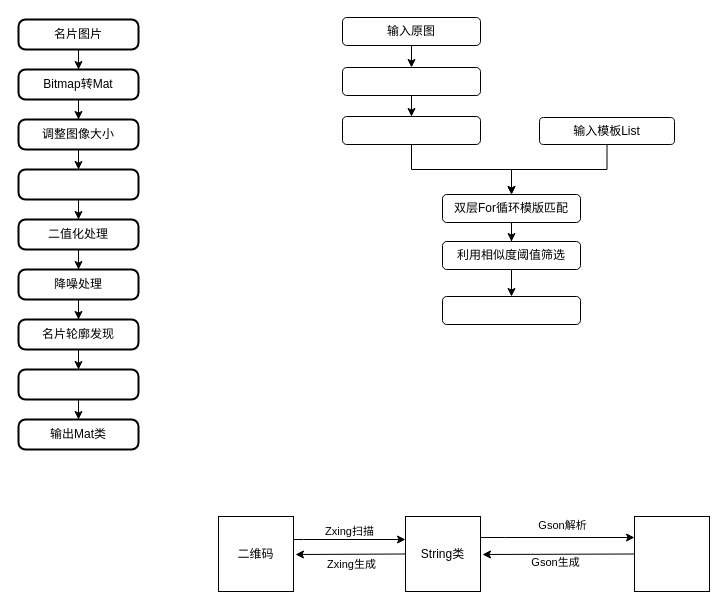
Some shapes in this 727 by 609 pixel diagram are drawn without their labels. Each missing label, with the centre of its shape:
"Contact类" goes at pixel 672 554.
"名片轮廓截取" goes at pixel 78 384.
"灰度处理" goes at pixel 78 184.
"轮廓检测" goes at pixel 411 81.
"轮廓筛选" goes at pixel 411 130.
"输出识别结果" goes at pixel 511 310.
